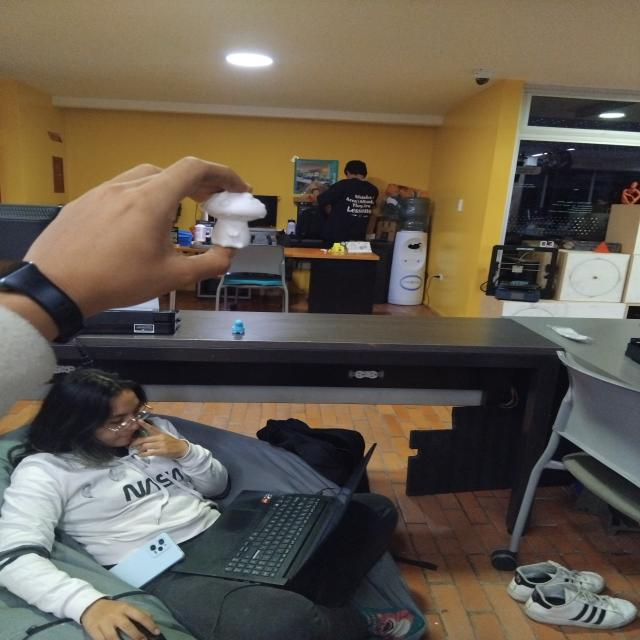Hongo: (194, 180, 276, 252)
